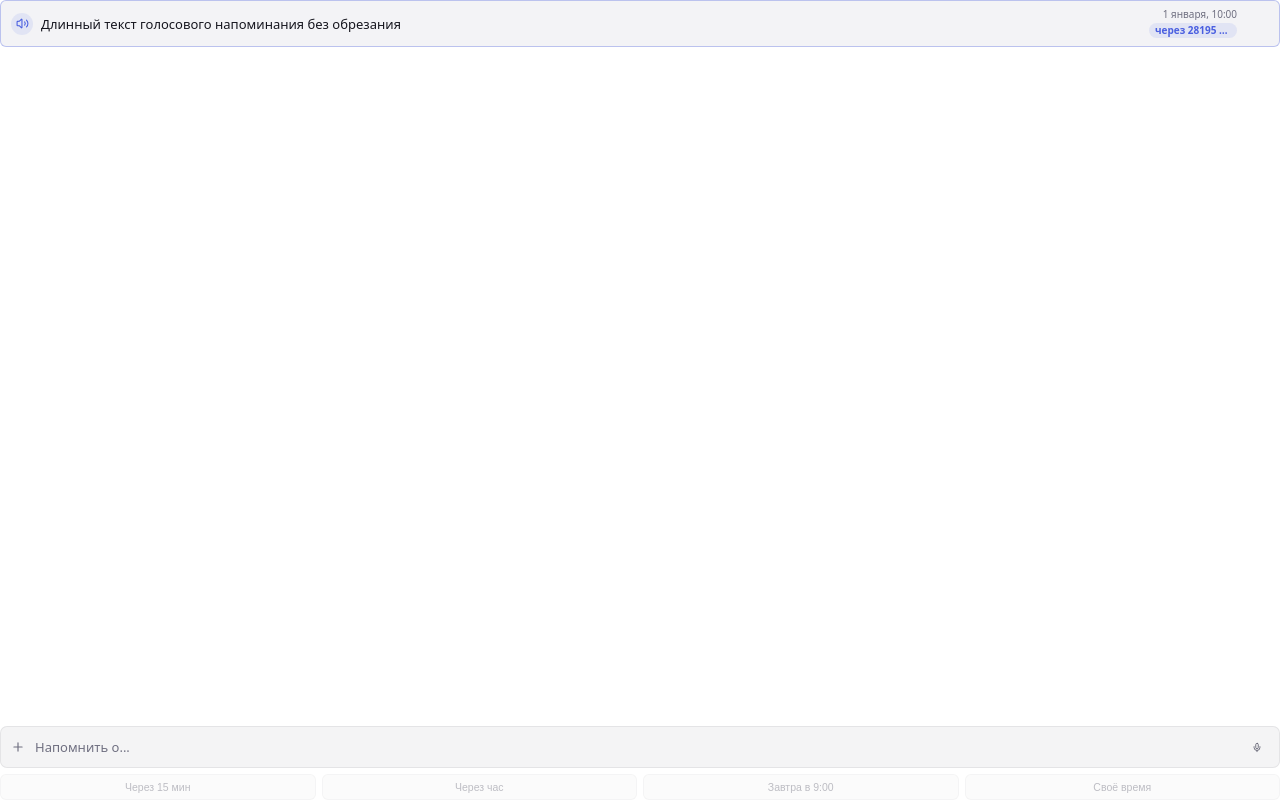
Test: RemindersView › opens full reminder text and loads voice audio in the shared dialog
Step 1. Click the button "Длинный текст голосового напоминания без обрезания" → [221, 24], box [41, 14, 1141, 32]
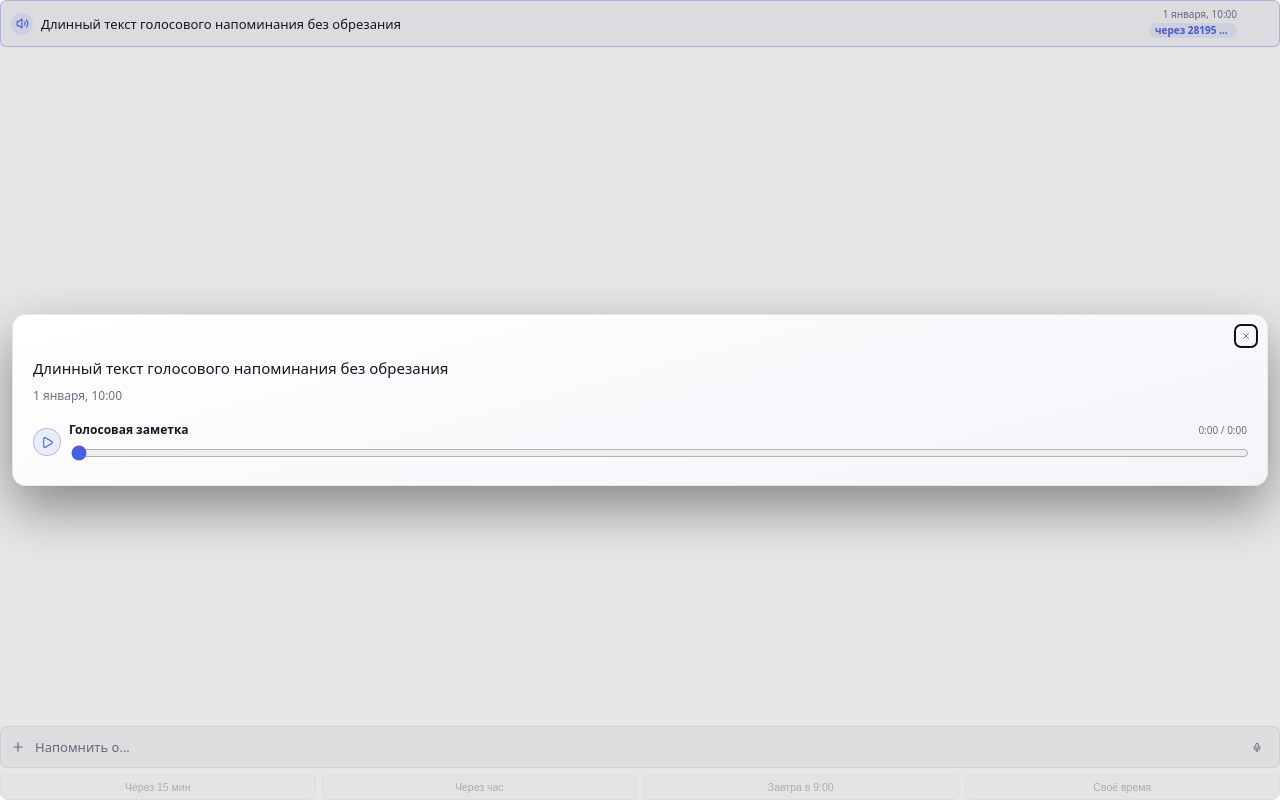
Result: the dialog "Длинный текст голосового напоминания без обрезания" is shown at [33, 358, 448, 378]
Result: the text "Голосовая заметка" is shown at [69, 421, 189, 438]
